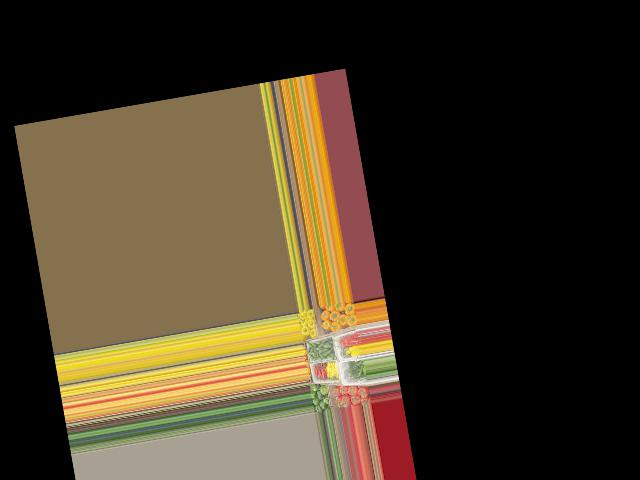bell_pepper: (319, 394, 331, 406)
